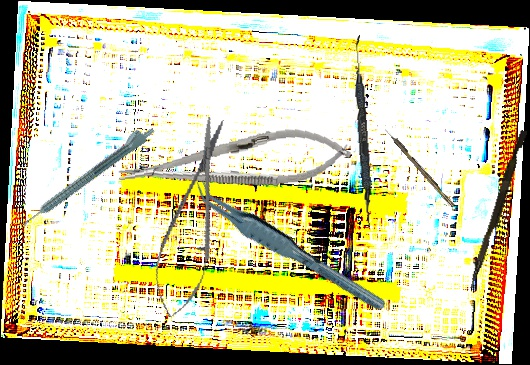Handpiece: (16, 120, 157, 229)
Hook Surgical: (383, 126, 456, 209)
Micro Scissor: (143, 112, 243, 324)
Needle Holder: (115, 121, 354, 203)
Pusher: (468, 128, 528, 291)
Spatula Surgical: (349, 35, 377, 228)
Tissue Forceps: (187, 159, 389, 334)
